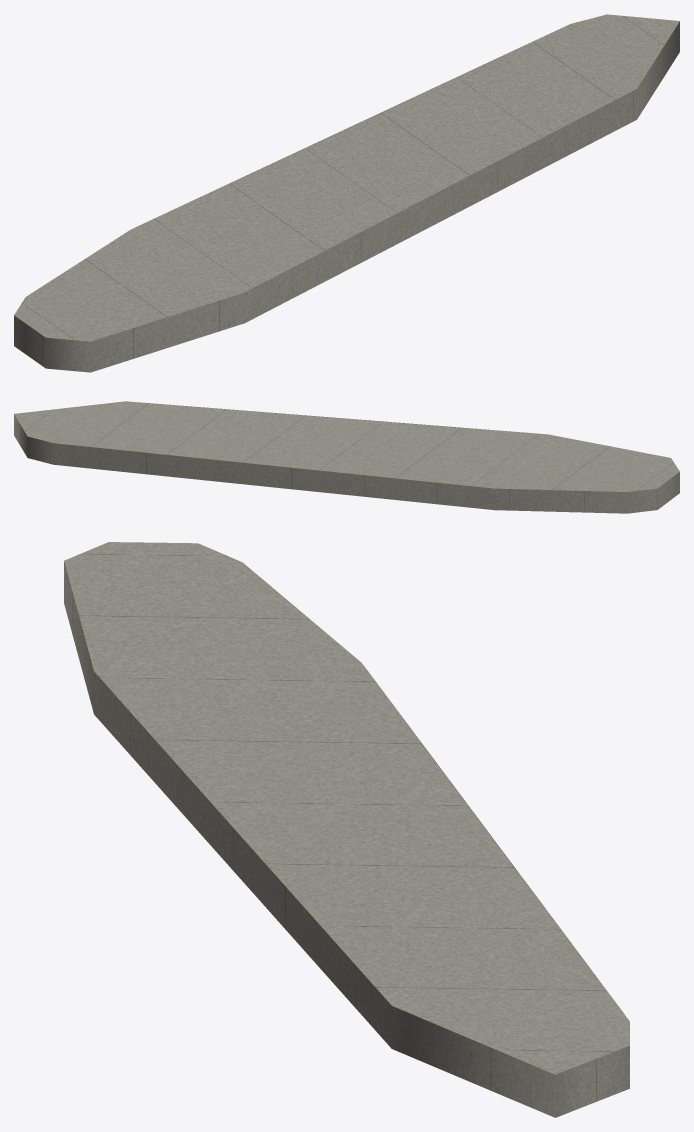
The model's file is curb_09.gltf.
3 renders of one model, top to bottom at view 1: azimuth 30°, elevation 25°; view 2: azimuth 150°, elevation 25°; view 3: azimuth 270°, elevation 25°, orthographic. The views are drawn at different scales.
Visible parts, largest first — view 1: curb_09.surface, curb_09.sides; view 2: curb_09.surface, curb_09.sides; view 3: curb_09.surface, curb_09.sides.
Part boxes in pixels (bbox=[...]): curb_09.surface: bbox=[14, 14, 679, 341]; curb_09.sides: bbox=[14, 21, 679, 372]; curb_09.surface: bbox=[14, 401, 679, 491]; curb_09.sides: bbox=[14, 403, 679, 513]; curb_09.surface: bbox=[64, 542, 629, 1074]; curb_09.sides: bbox=[64, 561, 629, 1117].
Bounding box in the file's own units: 4.3 × 0.1963 × 1.9.
1 material, 1 textured.
